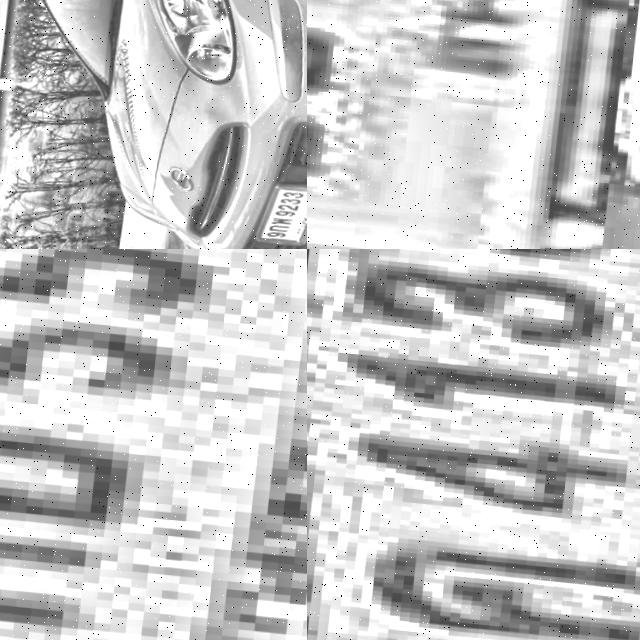license-plate: (307, 249, 640, 640), (0, 249, 307, 640), (307, 0, 623, 249), (252, 177, 307, 249)
